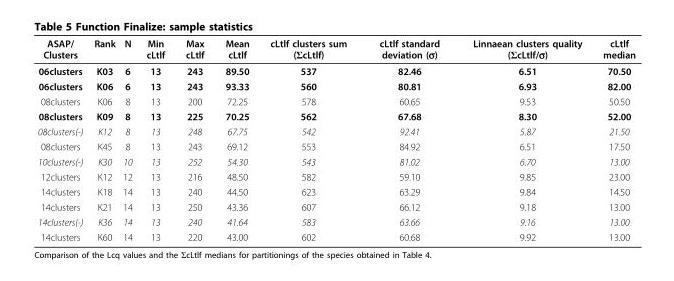table: (37, 37, 634, 242)
table column: (455, 37, 591, 242), (259, 37, 362, 242), (362, 37, 455, 242), (37, 37, 87, 242), (214, 37, 259, 242), (591, 37, 634, 242), (174, 37, 214, 242), (138, 37, 174, 242), (87, 37, 118, 242), (118, 37, 138, 242)
table column header: (37, 37, 634, 62)
table row: (37, 37, 634, 62), (37, 62, 634, 78), (37, 183, 634, 199), (37, 78, 634, 93), (37, 93, 634, 108), (37, 108, 634, 123), (37, 123, 634, 138), (37, 138, 634, 153), (37, 153, 634, 168), (37, 168, 634, 183), (37, 199, 634, 214), (37, 214, 634, 229), (37, 229, 634, 242)
